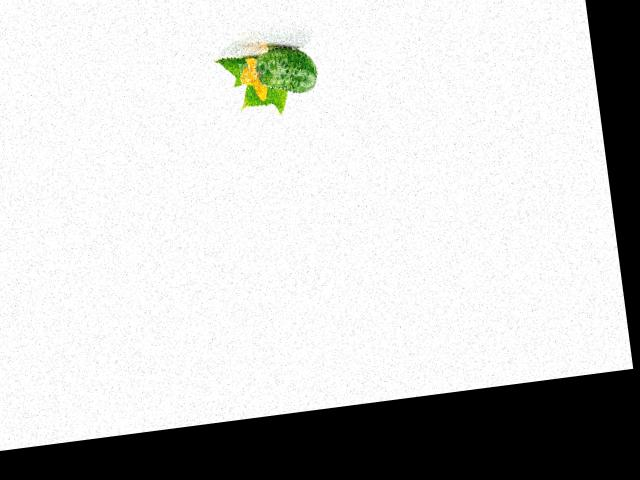cucumber: (254, 43, 320, 97)
